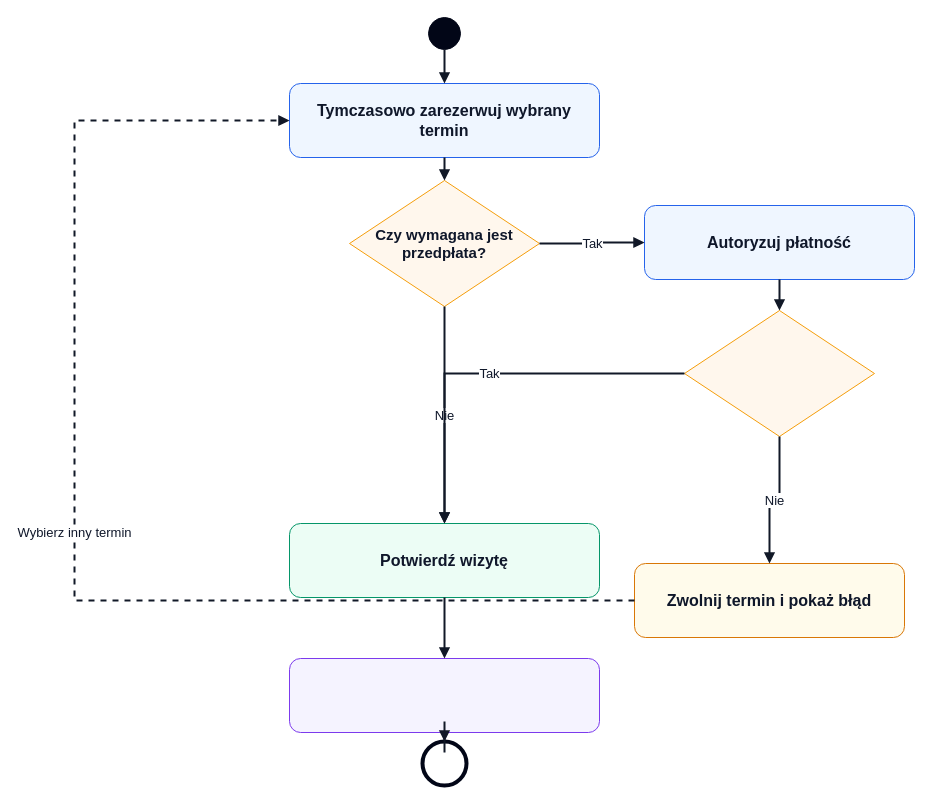
Some shapes in this 932 by 805 pixel diagram are drawn without their labels. The shapes that lost their labels are listed below. From the top down, each one's centre as x and y in pixels, then its label:
At point 779,373: "Czy płatność zakończyła się sukcesem?".
At point 444,695: "Wyślij wiadomość z potwierdzeniem".
